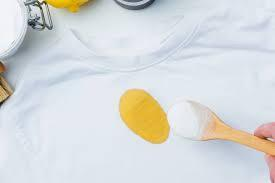lipstick: (119, 87, 159, 142), (151, 106, 166, 146), (145, 122, 169, 138)
